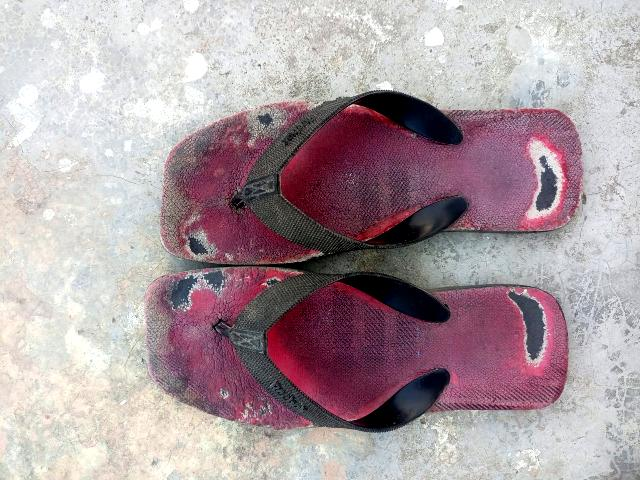sandal: (144, 52, 592, 273), (153, 260, 576, 427)
